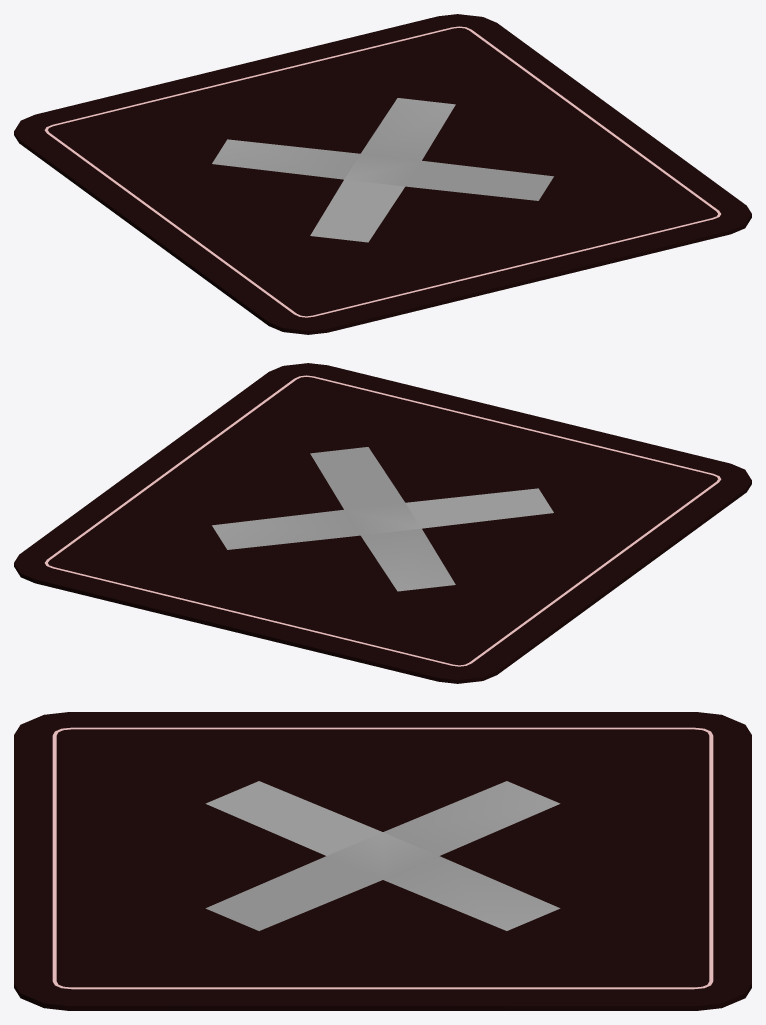
The model's file is W_M_Playground_X_L2.fbx.
The picture shows the model from 3 angles, top to bottom: view 1: azimuth 30°, elevation 25°; view 2: azimuth 150°, elevation 25°; view 3: azimuth 270°, elevation 25°; orthographic projection. The views are drawn at different scales.
Parts seen in each view (by area): view 1: W_M_Playground_X_L2; view 2: W_M_Playground_X_L2; view 3: W_M_Playground_X_L2.
Boxes of the visible parts, x1,y1,x2,y2 form: W_M_Playground_X_L2: [14, 14, 751, 334]; W_M_Playground_X_L2: [14, 363, 751, 683]; W_M_Playground_X_L2: [14, 712, 751, 1010].
Bounding box in the file's own units: 17.08 × 0.212 × 18.12.
